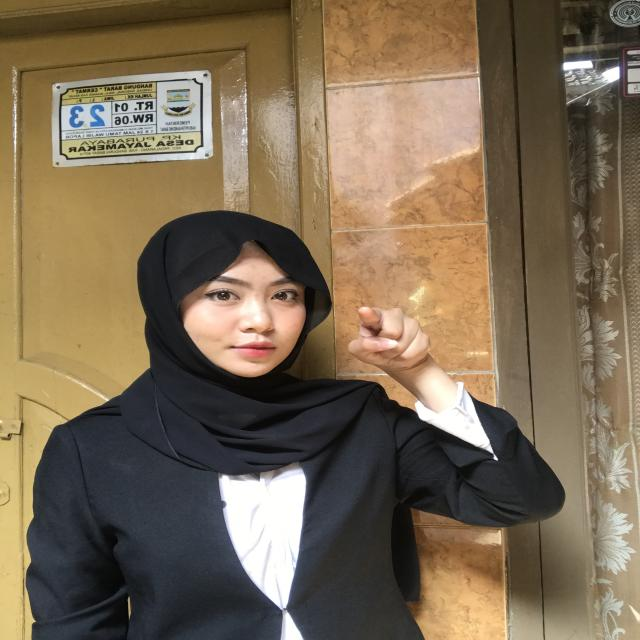kamu: (342, 290, 444, 388)
